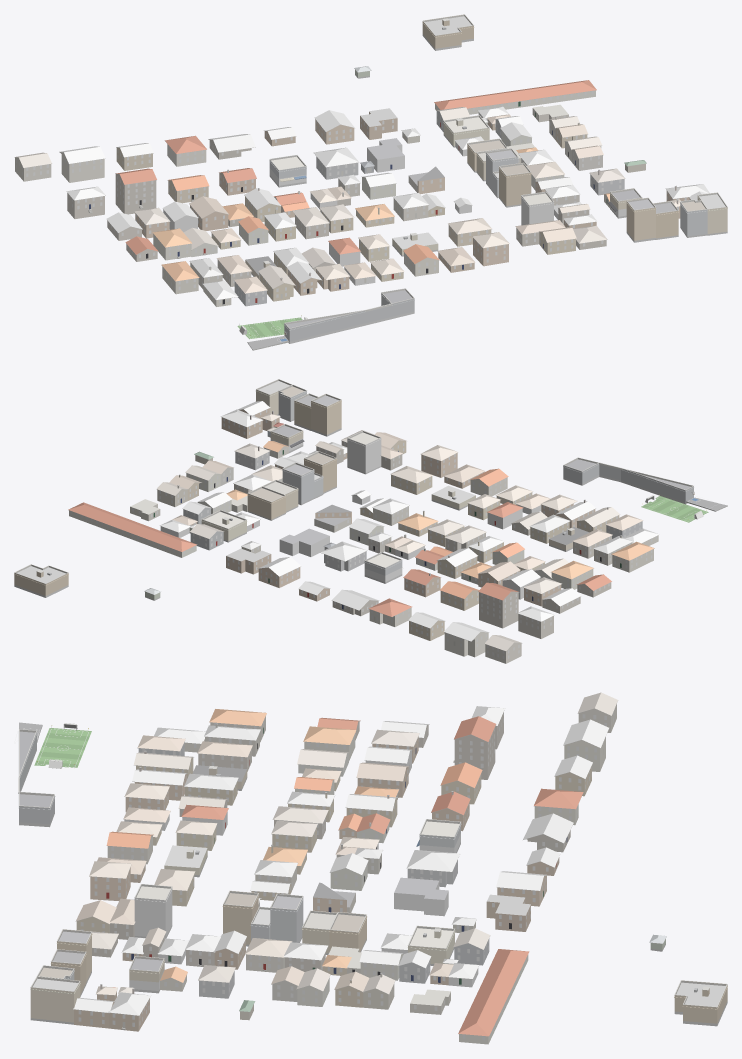
File: bld_-1_-2.dae
The picture shows the model from 3 angles, top to bottom: view 1: azimuth 30°, elevation 25°; view 2: azimuth 150°, elevation 25°; view 3: azimuth 270°, elevation 25°; orthographic projection. The views are drawn at different scales.
Parts seen in each view (by area): view 1: blda2009; view 2: blda2009; view 3: blda2009.
Part boxes in pixels (box(x1,y1,x2,y2)): blda2009: box(14, 14, 727, 350); blda2009: box(14, 379, 727, 663); blda2009: box(14, 692, 727, 1044).
Size of the model in its own units: 286 by 267 by 19.16.
